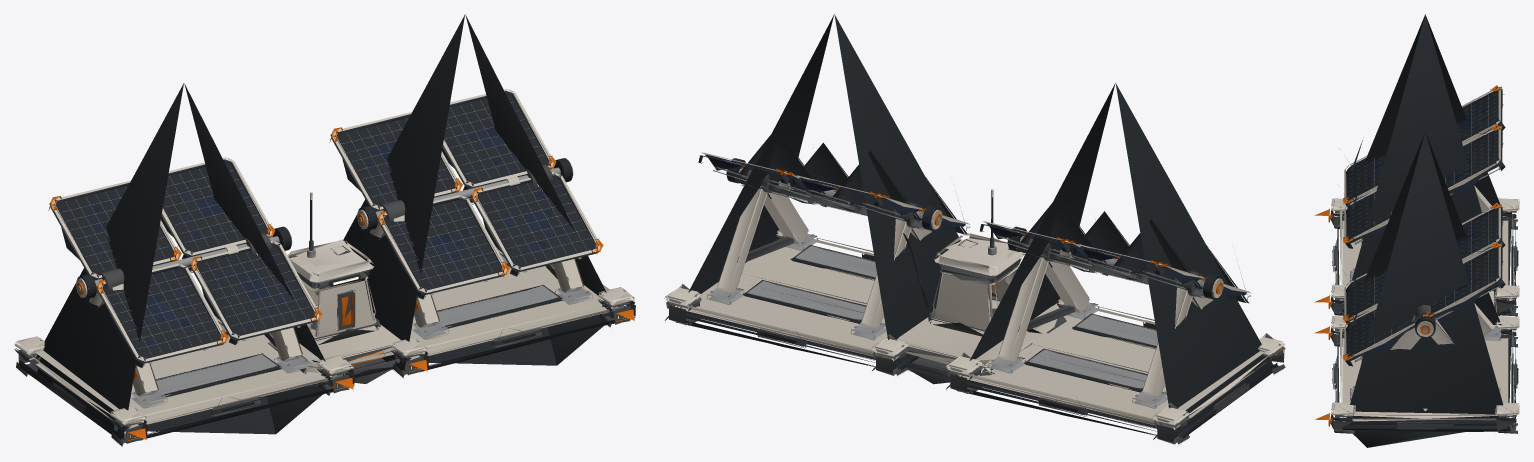
Rendered from power.glb.
The picture shows the model from 3 angles, left to right: view 1: azimuth 30°, elevation 25°; view 2: azimuth 150°, elevation 25°; view 3: azimuth 270°, elevation 25°; orthographic projection. The views are drawn at different scales.
Parts seen in each view (by area): view 1: power; view 2: power; view 3: power.
Boxes of the visible parts, x1,y1,x2,y2 form: power: (14, 14, 635, 446); power: (664, 14, 1285, 444); power: (1314, 14, 1519, 447).
Size of the model in its own units: 11.99 by 7.57 by 4.83.
